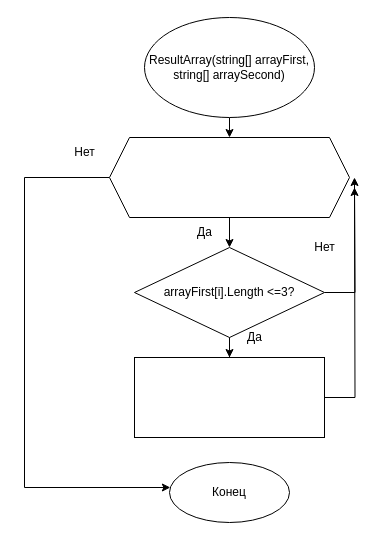
This 381x540 diagram has some shape labels left out. The centre of each missing label's shape, as x and y in pixels:
"arraySecond[i] = arrayFirst[i]" belongs at (229,397).
"int i = 0; i < arrayFirst.Length; i++" belongs at (229,177).
